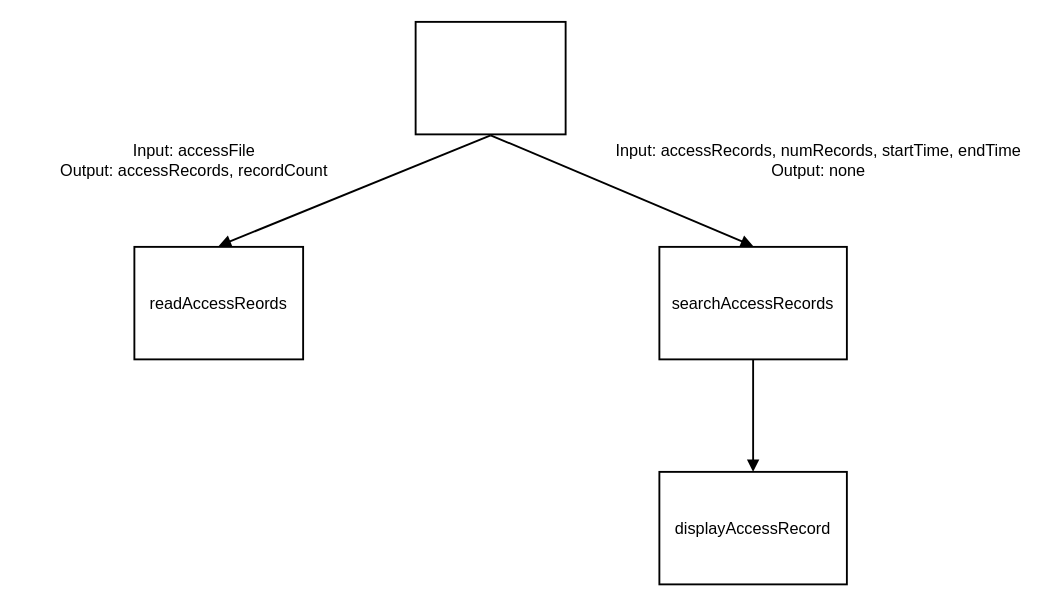
Image size: 1058x608. Some labels were removed from this diagram. The box of each missing label's shape, as (x1, y1, x2, y2) in pixels:
Input: accessRecord Output: none: (752, 369, 941, 461)
main: (414, 20, 566, 135)
